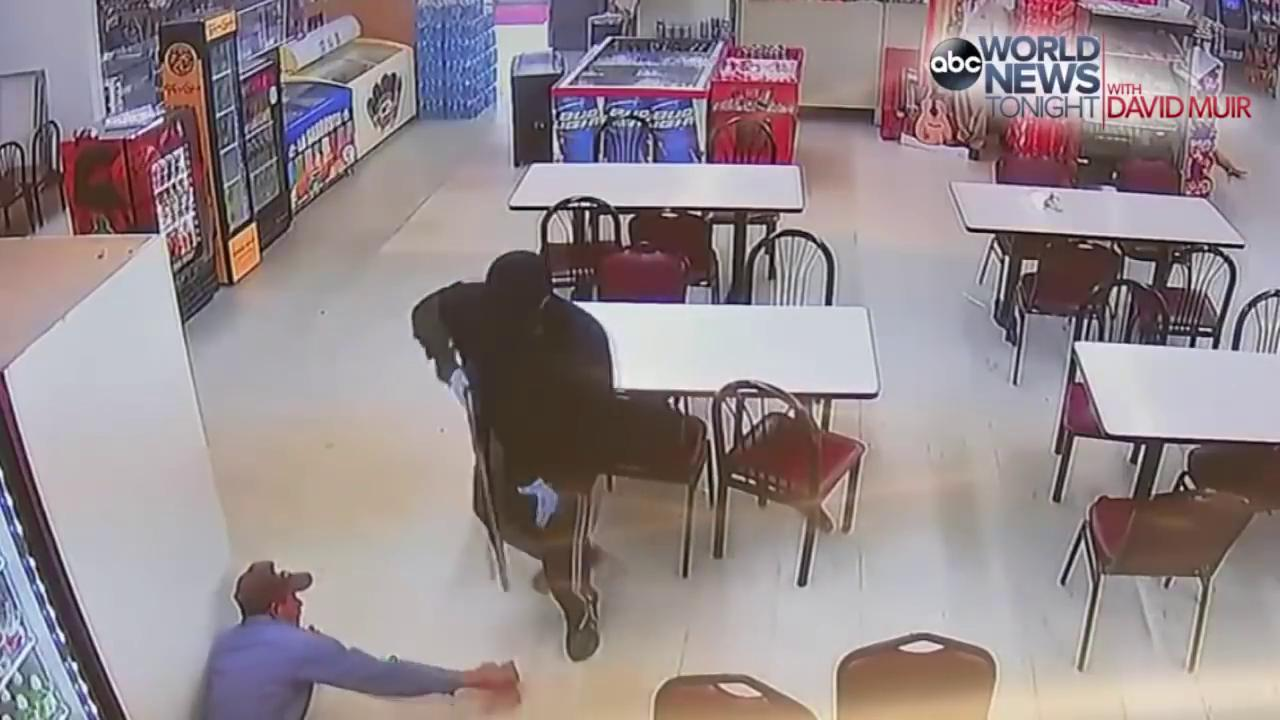gun: (452, 378, 510, 591)
